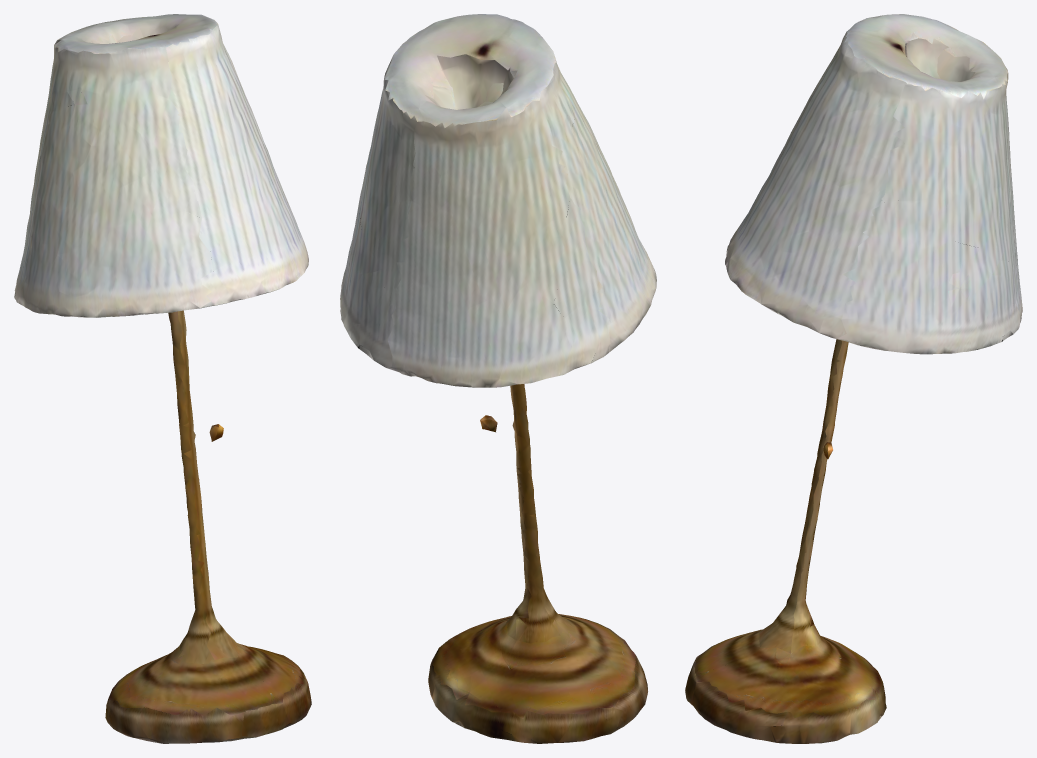
3 views of the same model, side by side, from view 1: azimuth 30°, elevation 25°; view 2: azimuth 150°, elevation 25°; view 3: azimuth 270°, elevation 25° (orthographic). The views are drawn at different scales.
Visible parts, largest first — view 1: world; view 2: world; view 3: world.
Boxes of the visible parts, x1,y1,x2,y2 form: world: (14,14,311,743); world: (340,14,656,743); world: (685,14,1022,743).
Size of the model in its own units: 0.4078 by 0.9999 by 0.4555.
1 material, 1 textured.
